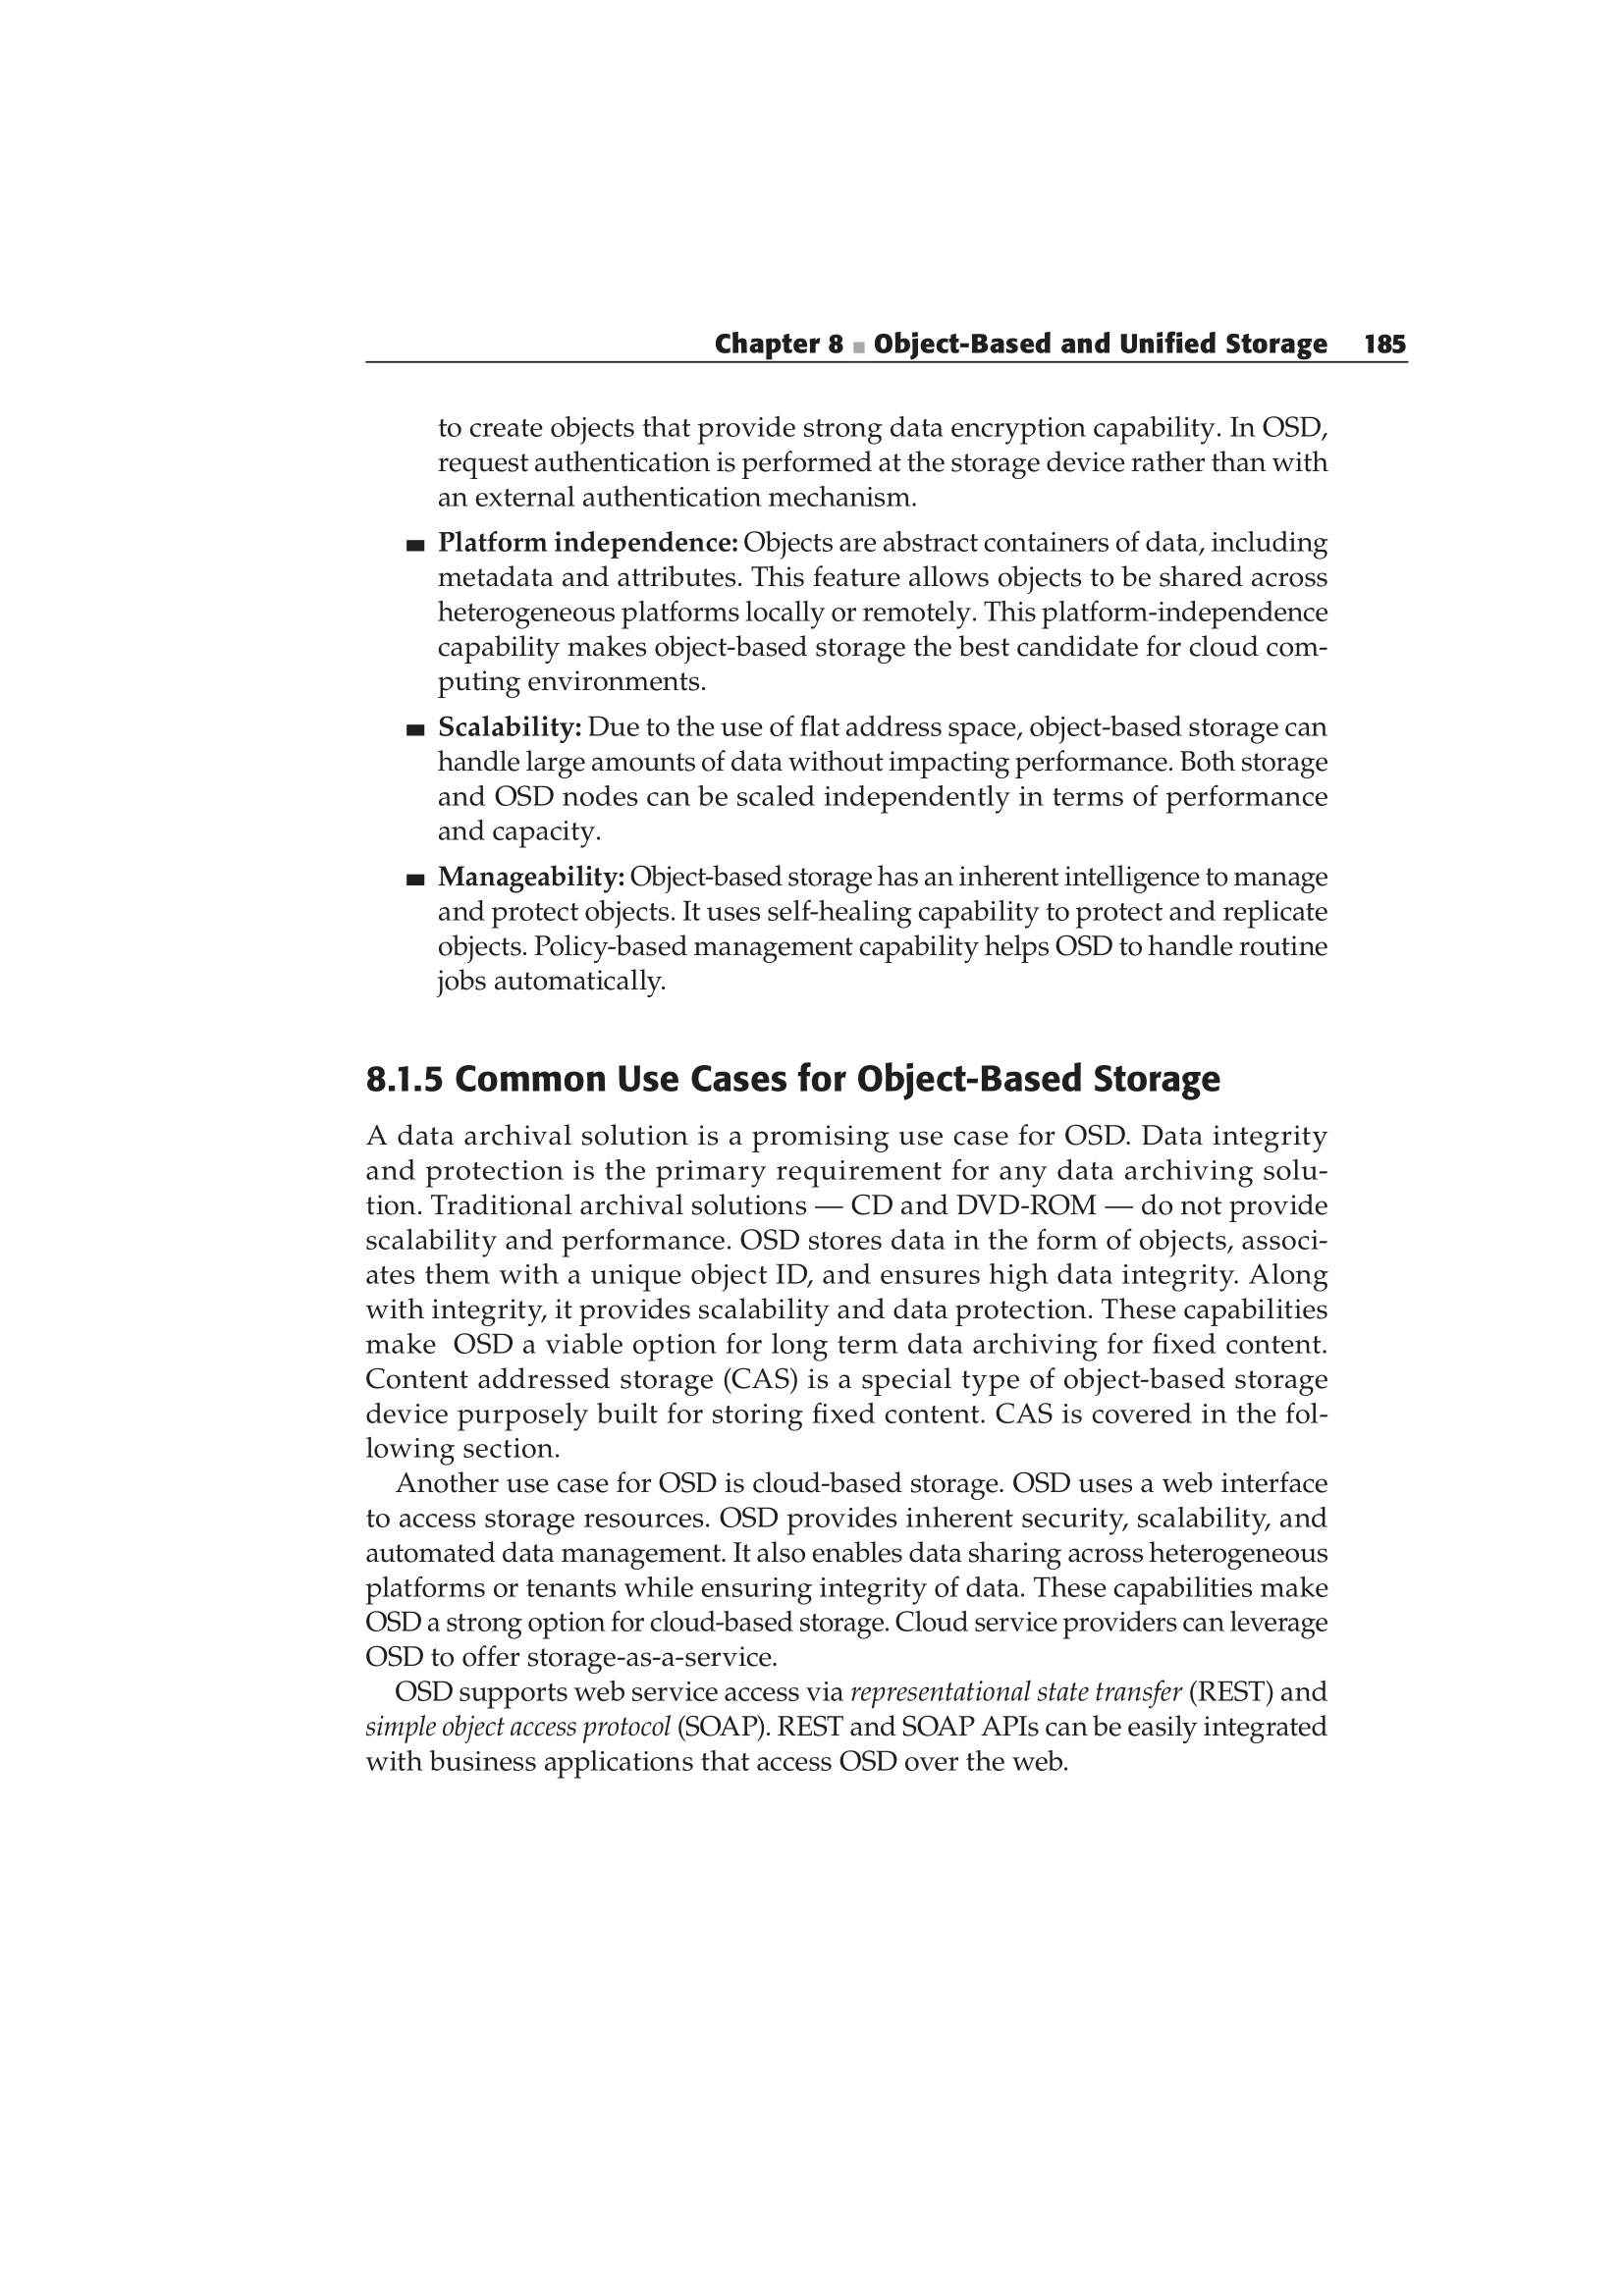Paragraph: (351, 1123, 1333, 1466), (357, 1474, 1342, 1675), (429, 525, 1328, 693), (429, 693, 1333, 853), (425, 397, 1347, 520), (429, 867, 1328, 987), (351, 1680, 1338, 1785), (351, 1032, 1247, 1113), (703, 302, 1433, 360)
